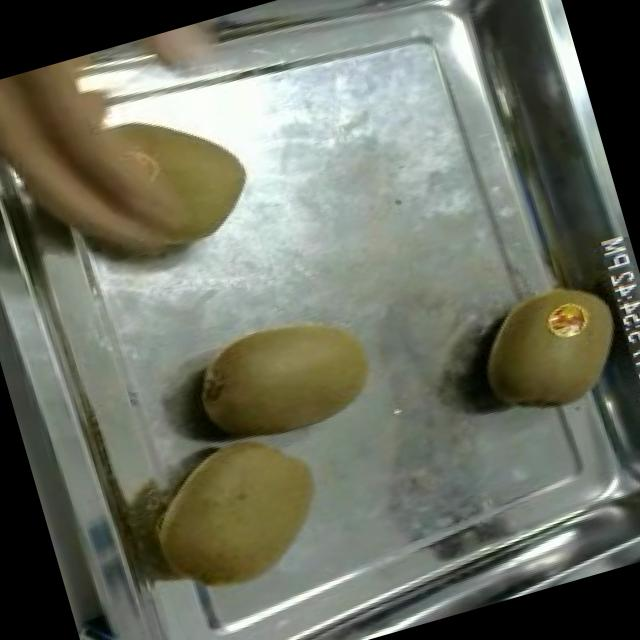Fruit: (0, 79, 269, 298), (121, 410, 349, 616), (174, 290, 392, 462), (456, 266, 640, 433)
